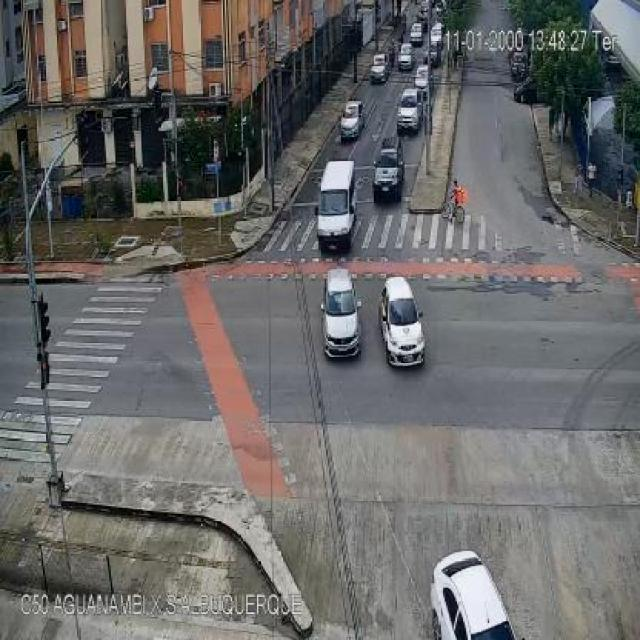Car: (432, 544, 514, 640), (378, 278, 428, 370), (321, 267, 365, 361), (373, 132, 403, 202), (394, 87, 424, 136), (338, 97, 365, 141), (368, 52, 391, 84), (412, 65, 433, 93), (396, 42, 414, 71), (406, 22, 424, 46)
Cycle: (442, 180, 468, 227)
Van: (314, 158, 356, 255)
